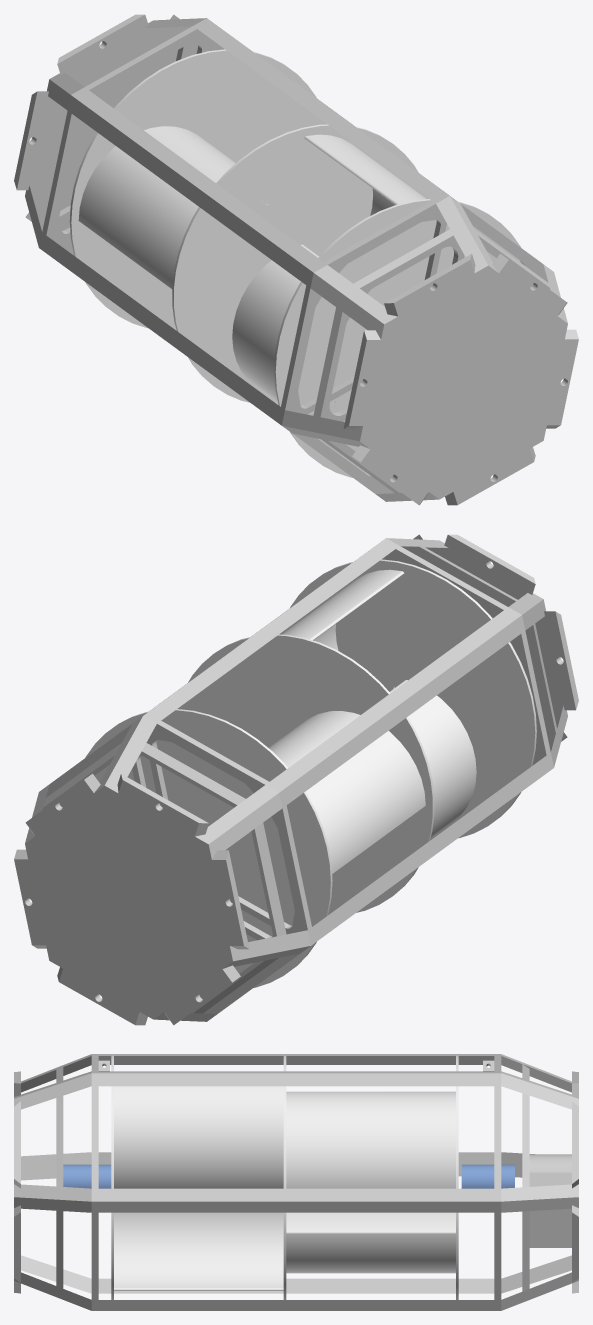
The model's file is savonius.glb.
3 views of the same model, one above another, from view 1: azimuth 30°, elevation 25°; view 2: azimuth 150°, elevation 25°; view 3: azimuth 270°, elevation 25° (orthographic). The views are drawn at different scales.
Parts seen in each view (by area): view 1: Part 1 (×5); view 2: Part 1 (×5); view 3: Part 1 (×5), occurrence of 4103-0032-0048 (×2).
Boxes of the visible parts, bbox=[...] form: Part 1 (×5): bbox=[14, 14, 578, 505]; Part 1 (×5): bbox=[14, 534, 578, 1025]; Part 1 (×5): bbox=[14, 1054, 578, 1310]; occurrence of 4103-0032-0048 (×2): bbox=[63, 1164, 514, 1188].
Bounding box in the file's own units: 0.2383 × 0.243 × 0.508.
